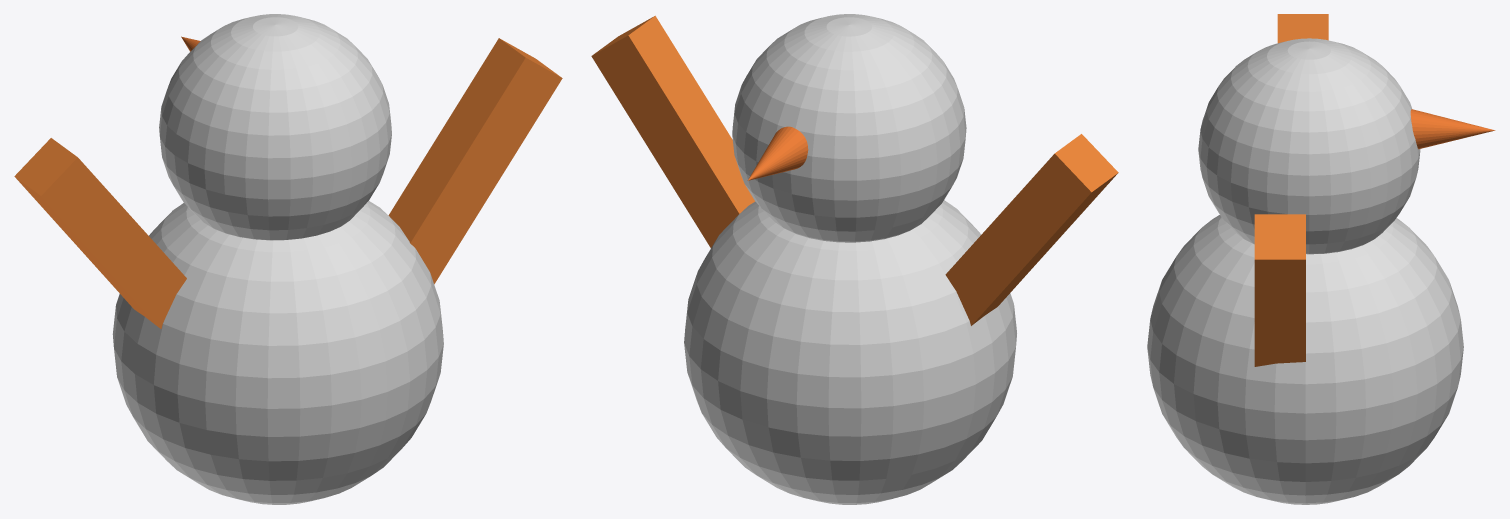
Rendered from snowman.dae.
3 views of the same model, side by side, from view 1: azimuth 30°, elevation 25°; view 2: azimuth 150°, elevation 25°; view 3: azimuth 270°, elevation 25° (orthographic). The views are drawn at different scales.
Visible parts, largest first — view 1: 球, 球.002, 腕.001, 腕; view 2: 球, 球.002, 腕.001, 腕, 円錐; view 3: 球, 球.002, 腕.001, 円錐, 腕.
Part boxes in pixels (x1,y1,x2,y2): 球: (112, 201, 443, 504); 球.002: (159, 14, 391, 240); 腕.001: (388, 38, 562, 284); 腕: (14, 138, 186, 328); 球: (684, 200, 1016, 504); 球.002: (732, 14, 966, 242); 腕.001: (591, 15, 754, 247); 腕: (945, 134, 1118, 325); 円錐: (747, 126, 808, 180); 球: (1147, 215, 1463, 504); 球.002: (1198, 38, 1420, 254); 腕.001: (1254, 214, 1305, 366); 円錐: (1410, 109, 1495, 149); 腕: (1277, 14, 1328, 43).
Bounding box in the file's own units: 10.08 × 6.27 × 8.76.
